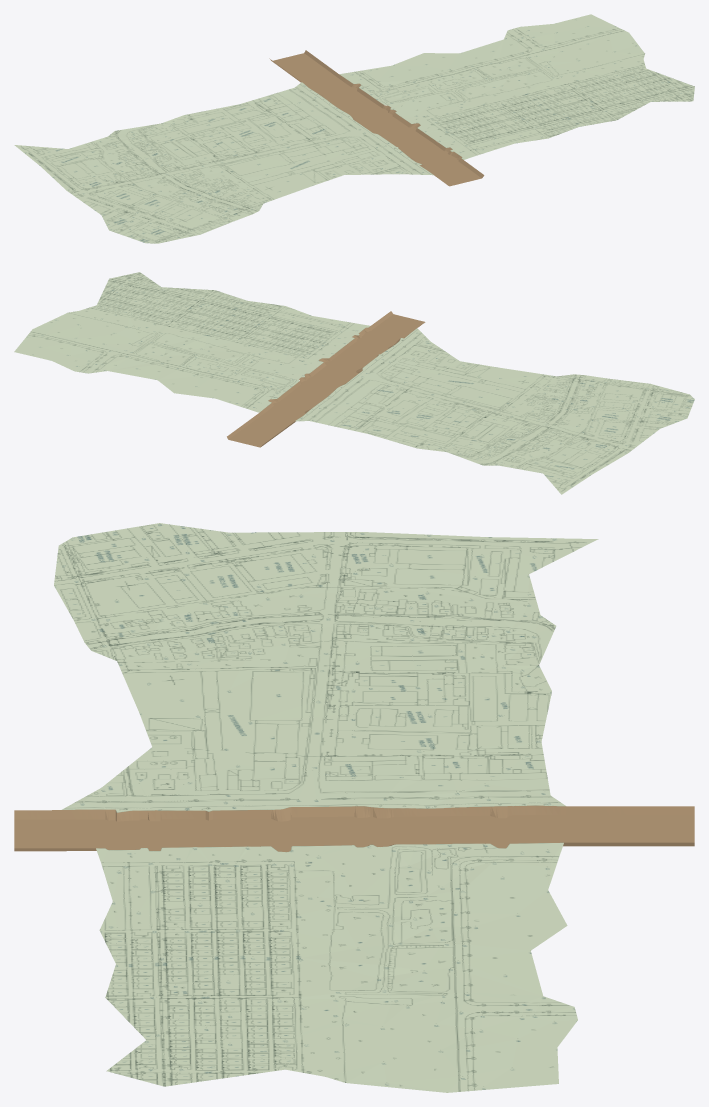
File: terrain.glb
The picture shows the model from 3 angles, top to bottom: view 1: azimuth 30°, elevation 25°; view 2: azimuth 150°, elevation 25°; view 3: azimuth 270°, elevation 25°; orthographic projection. The views are drawn at different scales.
Parts seen in each view (by area): view 1: 测绘地形_0, 测绘地形_1, 测绘地形_2, 测绘地形_3, 设计河床_-2.80m; view 2: 测绘地形_0, 测绘地形_1, 测绘地形_2, 测绘地形_3, 设计河床_-2.80m; view 3: 测绘地形_0, 测绘地形_1, 测绘地形_2, 测绘地形_3, 设计河床_-2.80m.
Part boxes in pixels (bbox=[...]): 测绘地形_0: bbox=[69, 121, 428, 243]; 测绘地形_1: bbox=[363, 52, 694, 175]; 测绘地形_2: bbox=[14, 82, 355, 191]; 测绘地形_3: bbox=[330, 14, 643, 118]; 设计河床_-2.80m: bbox=[269, 50, 484, 186]; 测绘地形_0: bbox=[347, 330, 694, 451]; 测绘地形_1: bbox=[65, 272, 418, 376]; 测绘地形_2: bbox=[295, 382, 629, 494]; 测绘地形_3: bbox=[14, 314, 342, 412]; 设计河床_-2.80m: bbox=[227, 311, 425, 447]; 测绘地形_0: bbox=[54, 523, 354, 807]; 测绘地形_1: bbox=[62, 806, 354, 1086]; 测绘地形_2: bbox=[354, 532, 598, 807]; 测绘地形_3: bbox=[354, 806, 577, 1092]; 设计河床_-2.80m: bbox=[14, 805, 694, 851].
Size of the model in its own units: 1188 by 6.94 by 600.
Materials: 5 (4 with a texture image).
